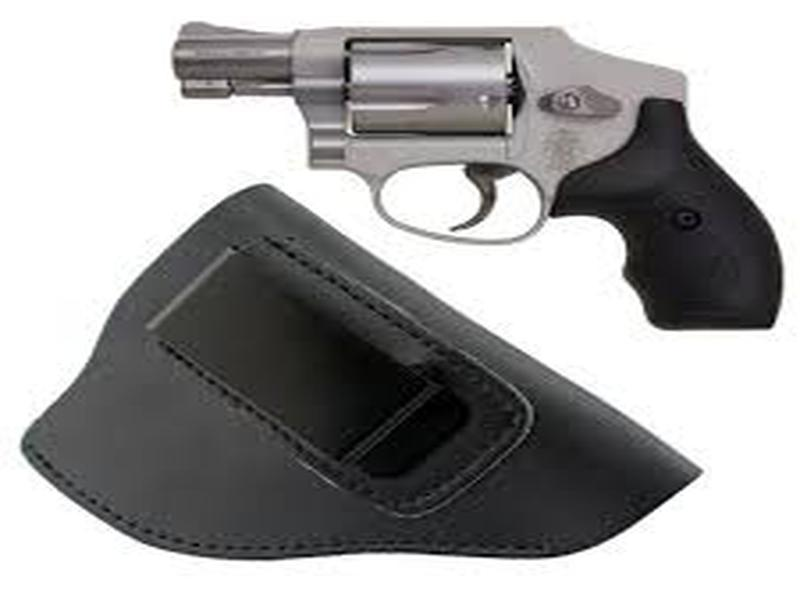gun: (170, 4, 790, 336)
